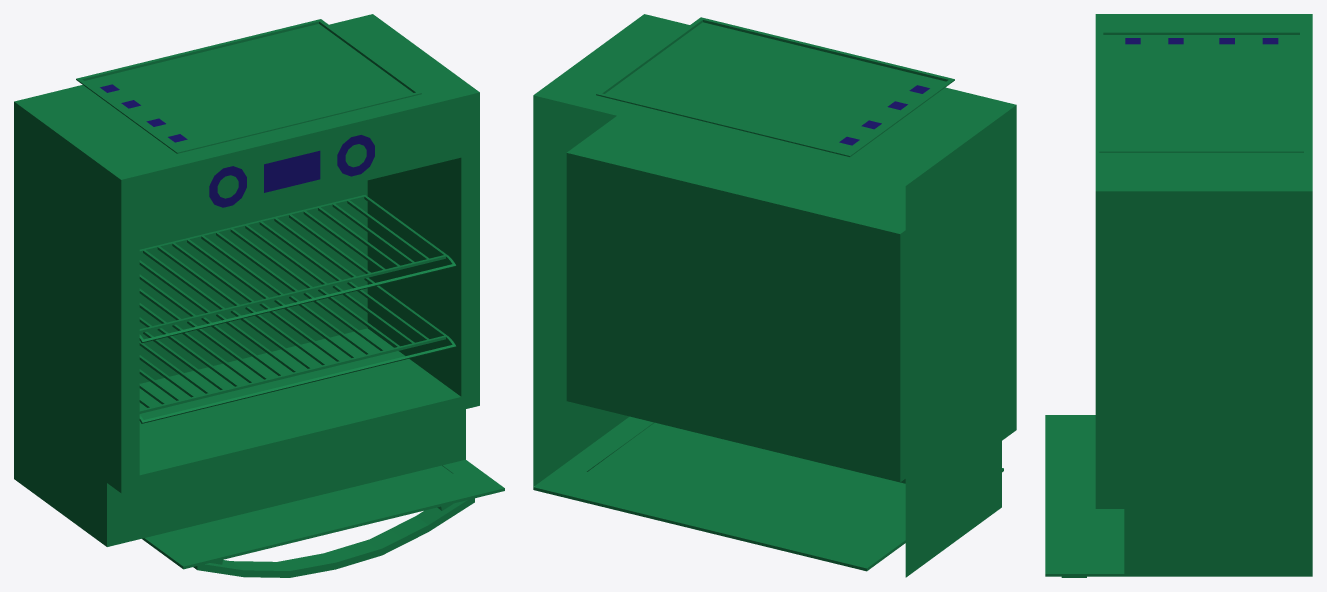
Rendered from GG_oven_final.FBX.
3 views of the same model, side by side, from view 1: azimuth 30°, elevation 25°; view 2: azimuth 150°, elevation 25°; view 3: azimuth 270°, elevation 25° (orthographic). The views are drawn at different scales.
Parts seen in each view (by area): view 1: object 2, Object593; view 2: object 2, Object593; view 3: object 2, Object593.
Part boxes in pixels (bbox=[...]): object 2: bbox=[14, 14, 479, 546]; Object593: bbox=[142, 459, 504, 577]; object 2: bbox=[533, 14, 1016, 577]; Object593: bbox=[533, 416, 1003, 571]; object 2: bbox=[1095, 14, 1312, 573]; Object593: bbox=[1045, 415, 1312, 577].
Bounding box in the file's own units: 89.7 × 104 × 57.17.
